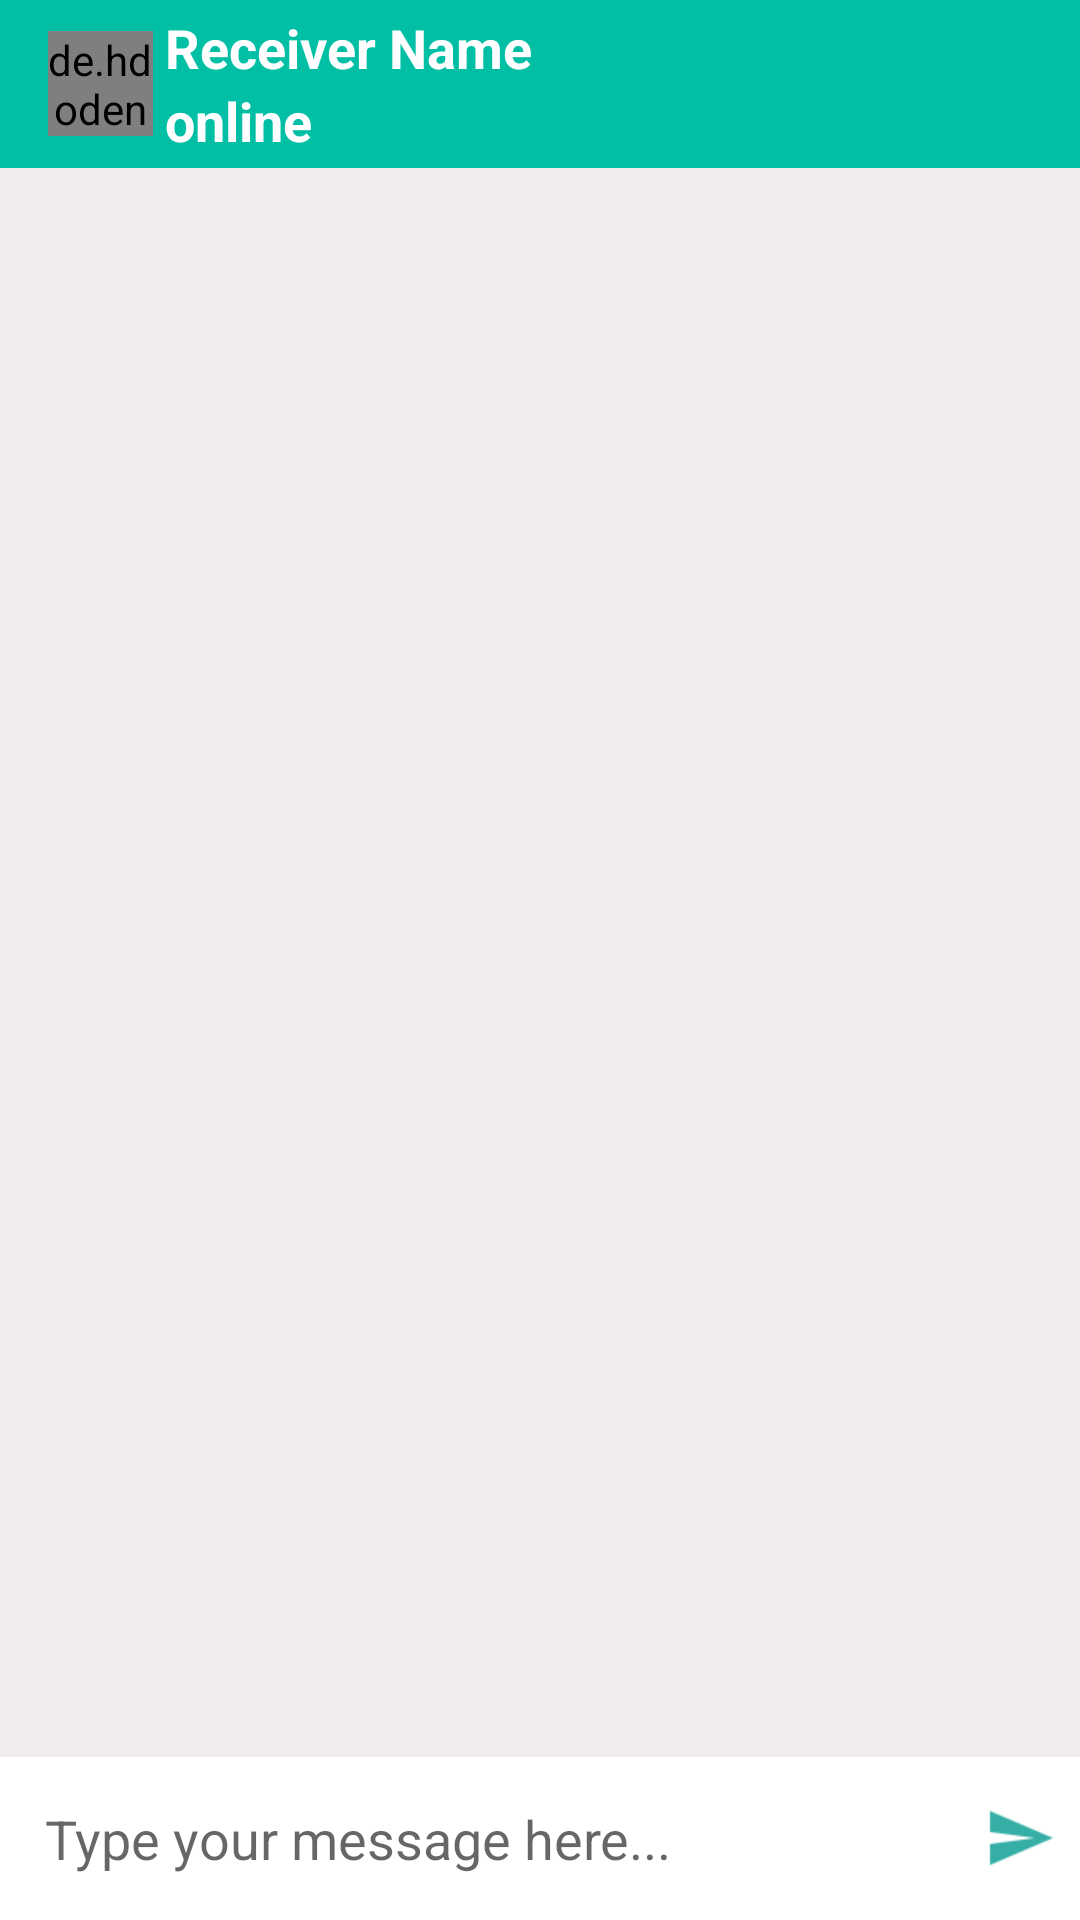

Where to tap for icons on this 1080×1920 app screen, as (x=x, y=y):
send: (x=1021, y=1838)
